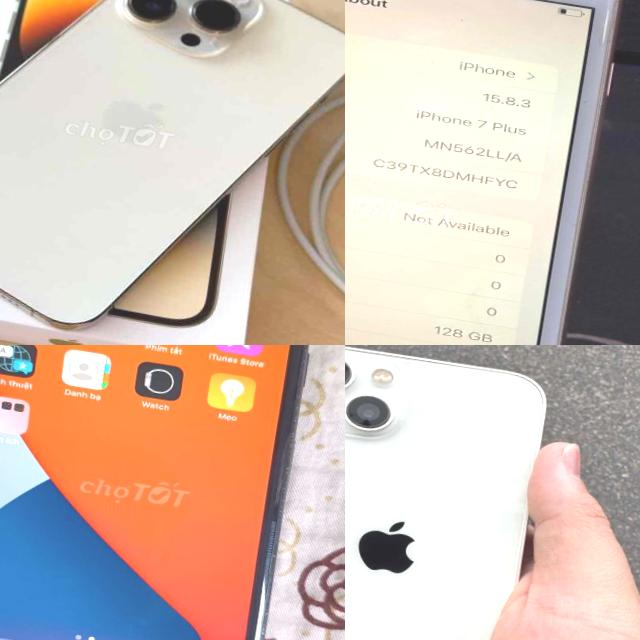gen_12_13: (345, 345, 569, 640)
gen_14: (0, 0, 345, 345)
gen_7_8: (345, 0, 638, 345), (0, 345, 332, 640)
